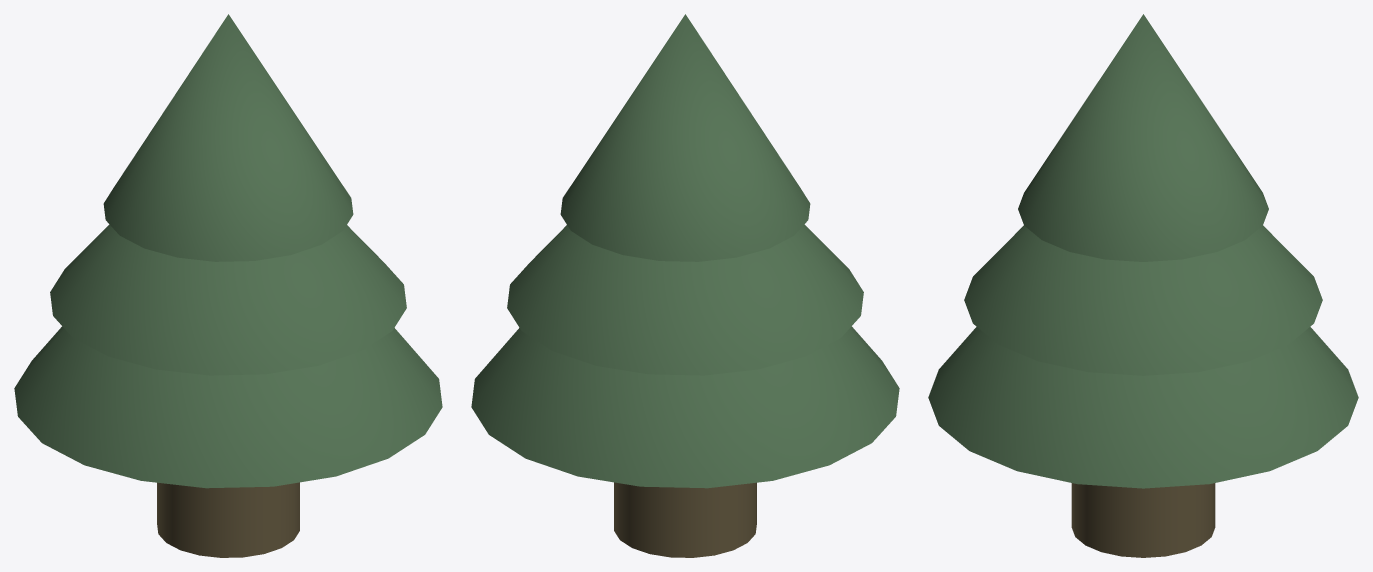
The model's file is Tree 1.fbx.
The picture shows the model from 3 angles, left to right: view 1: azimuth 30°, elevation 25°; view 2: azimuth 150°, elevation 25°; view 3: azimuth 270°, elevation 25°; orthographic projection.
Parts seen in each view (by area): view 1: bottomleaf, midleaf, topleaf, trunk; view 2: bottomleaf, midleaf, topleaf, trunk; view 3: bottomleaf, midleaf, topleaf, trunk.
Boxes of the visible parts, x1,y1,x2,y2 form: bottomleaf: [14, 326, 442, 488]; midleaf: [50, 224, 406, 375]; topleaf: [103, 14, 353, 261]; trunk: [157, 482, 299, 557]; bottomleaf: [471, 326, 899, 488]; midleaf: [507, 224, 863, 375]; topleaf: [560, 14, 810, 261]; trunk: [614, 482, 756, 557]; bottomleaf: [928, 326, 1358, 488]; midleaf: [964, 225, 1322, 375]; topleaf: [1018, 14, 1268, 261]; trunk: [1071, 483, 1215, 557].
Size of the model in its own units: 30 by 39.5 by 30.
